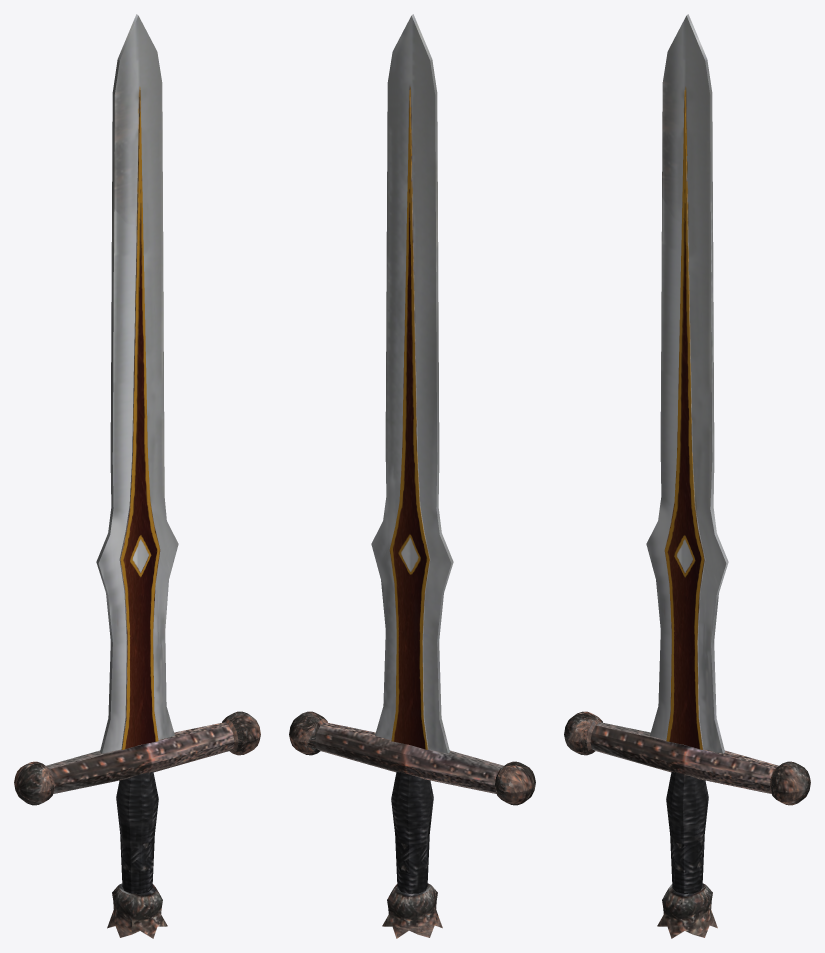
File: Sword_Medieval.fbx
3 renders of one model, left to right at view 1: azimuth 30°, elevation 25°; view 2: azimuth 150°, elevation 25°; view 3: azimuth 330°, elevation 25°, orthographic.
Visible parts, largest first — view 1: medieval_sword02; view 2: medieval_sword02; view 3: medieval_sword02.
Part boxes in pixels (x1=…): medieval_sword02: x1=14, y1=14, x2=260, y2=938; medieval_sword02: x1=289, y1=14, x2=535, y2=938; medieval_sword02: x1=564, y1=14, x2=810, y2=938.
Bounding box in the file's own units: 80.29 × 291 × 18.33.
